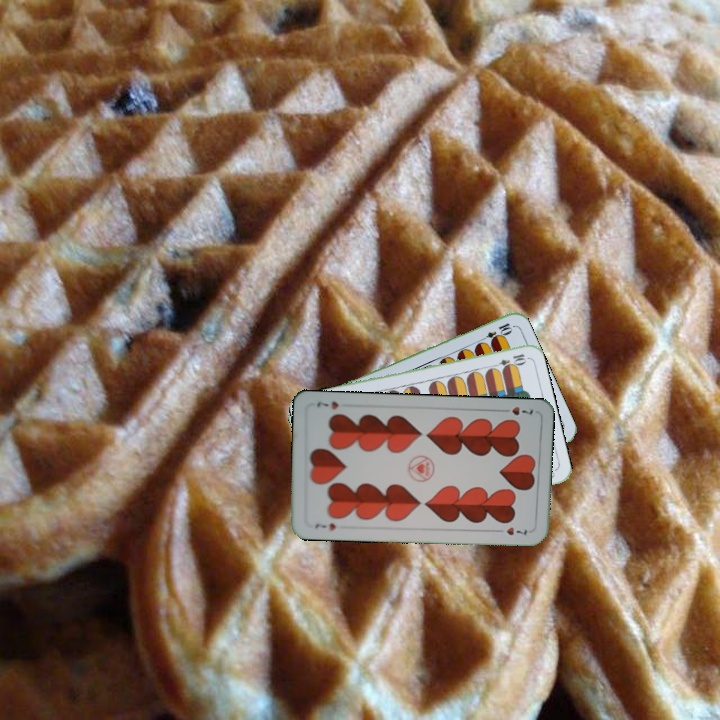E10: (476, 319, 515, 345), (488, 350, 528, 371)
H7: (497, 403, 536, 418), (311, 519, 338, 533)
